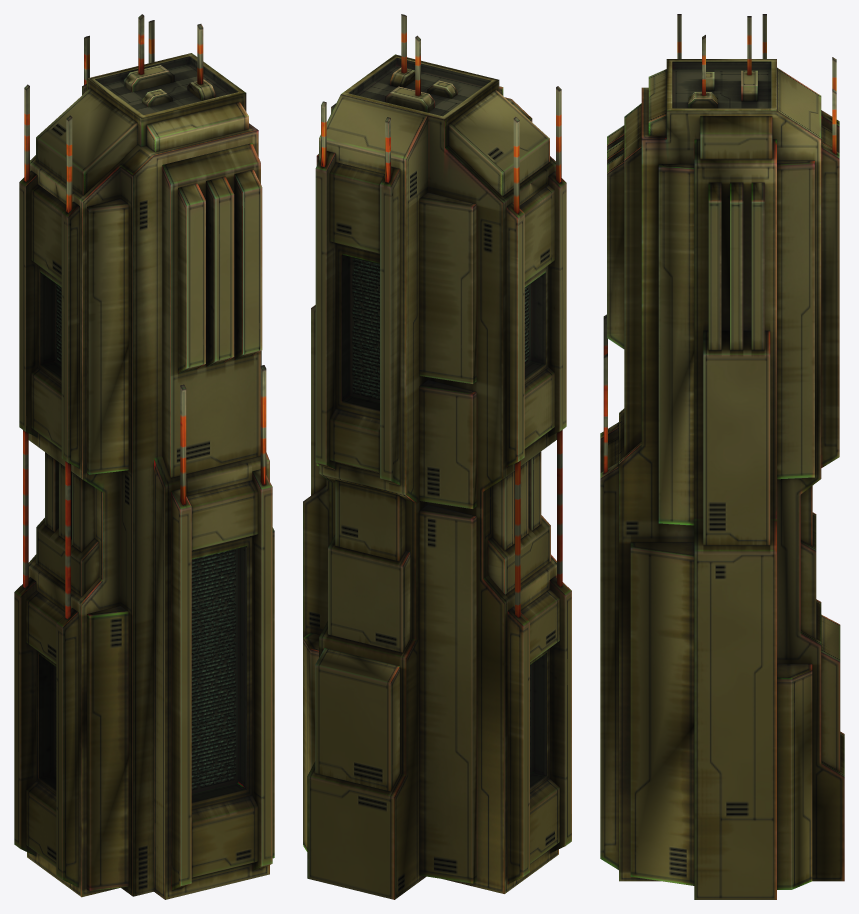
Rendered from edificio.obj.
3 views of the same model, side by side, from view 1: azimuth 30°, elevation 25°; view 2: azimuth 150°, elevation 25°; view 3: azimuth 270°, elevation 25° (orthographic).
Parts seen in each view (by area): view 1: edificio:sci_fi_city_structure_9; view 2: edificio:sci_fi_city_structure_9; view 3: edificio:sci_fi_city_structure_9.
Boxes of the visible parts, <box> form: edificio:sci_fi_city_structure_9: <box>14,14,274,899</box>; edificio:sci_fi_city_structure_9: <box>303,14,571,899</box>; edificio:sci_fi_city_structure_9: <box>600,14,844,899</box>.
Size of the model in its own units: 6.69 by 24.21 by 6.42.
Materials: 1 (1 with a texture image).
